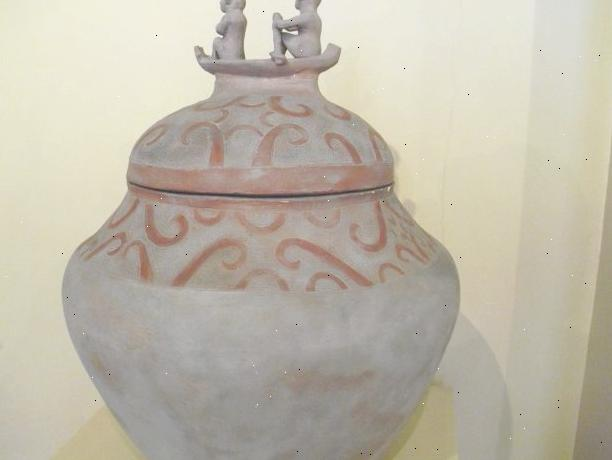manunggul_jar: (3, 0, 503, 460)
